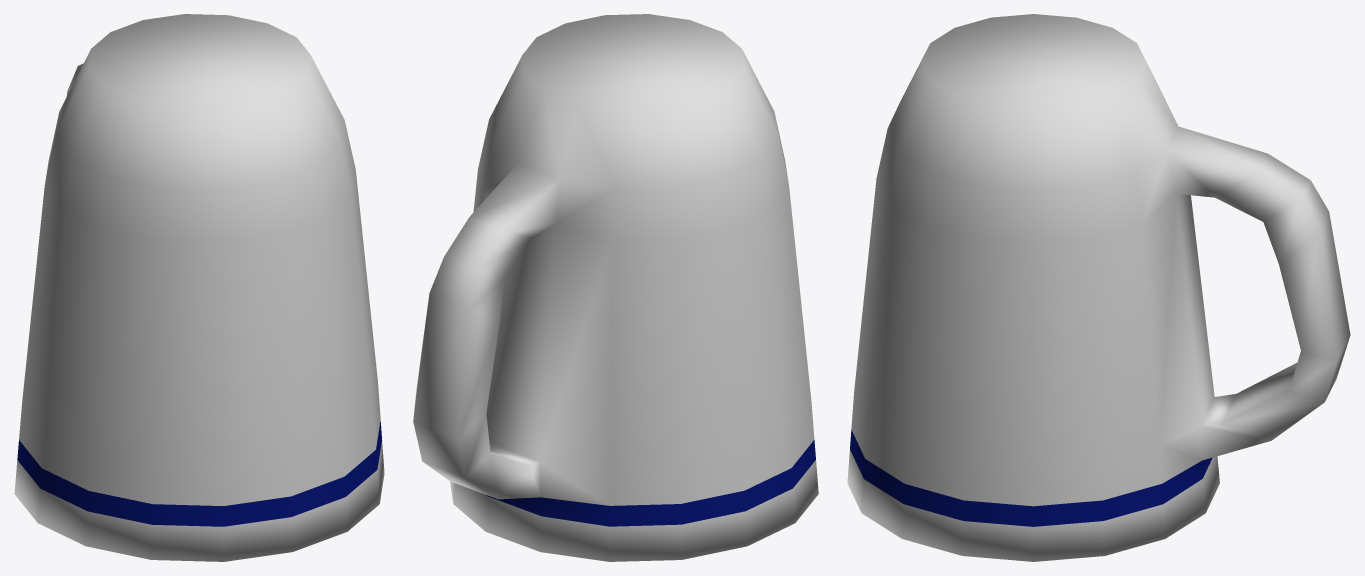
Rendered from coffee_cup.glb.
The picture shows the model from 3 angles, left to right: view 1: azimuth 30°, elevation 25°; view 2: azimuth 150°, elevation 25°; view 3: azimuth 270°, elevation 25°; orthographic projection.
Parts seen in each view (by area): view 1: Cylinder; view 2: Cylinder; view 3: Cylinder.
Part boxes in pixels (x1,y1,x2,y2): Cylinder: (14,14,384,561); Cylinder: (413,14,818,561); Cylinder: (847,14,1350,561).
Size of the model in its own units: 4.8 by 6 by 6.48.
